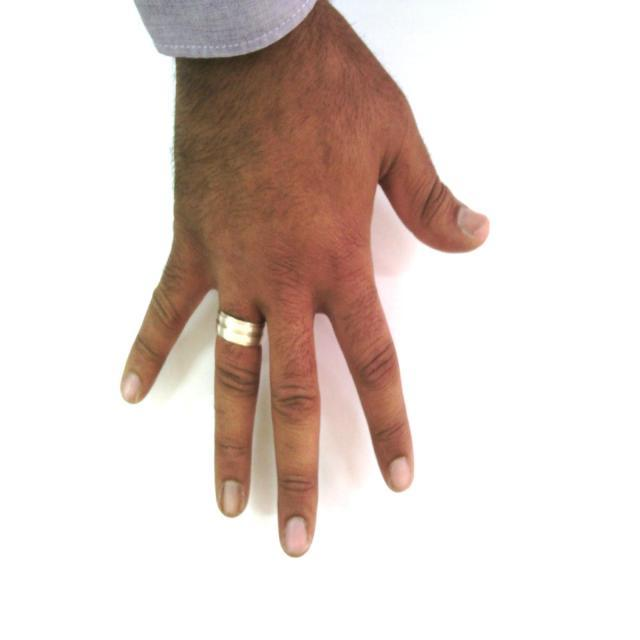Fingernail: (458, 207, 487, 239), (285, 517, 308, 555), (222, 481, 243, 517), (390, 458, 411, 490), (122, 372, 141, 402)
